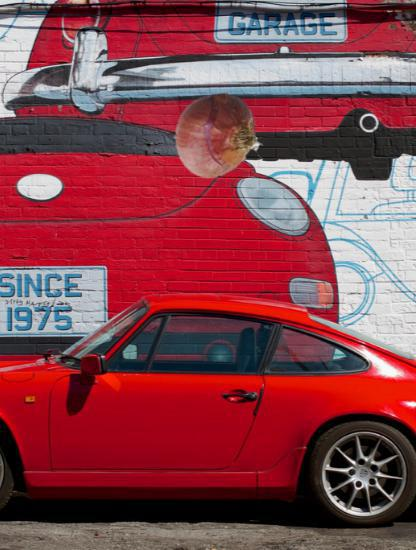Onion: (174, 90, 265, 181)
